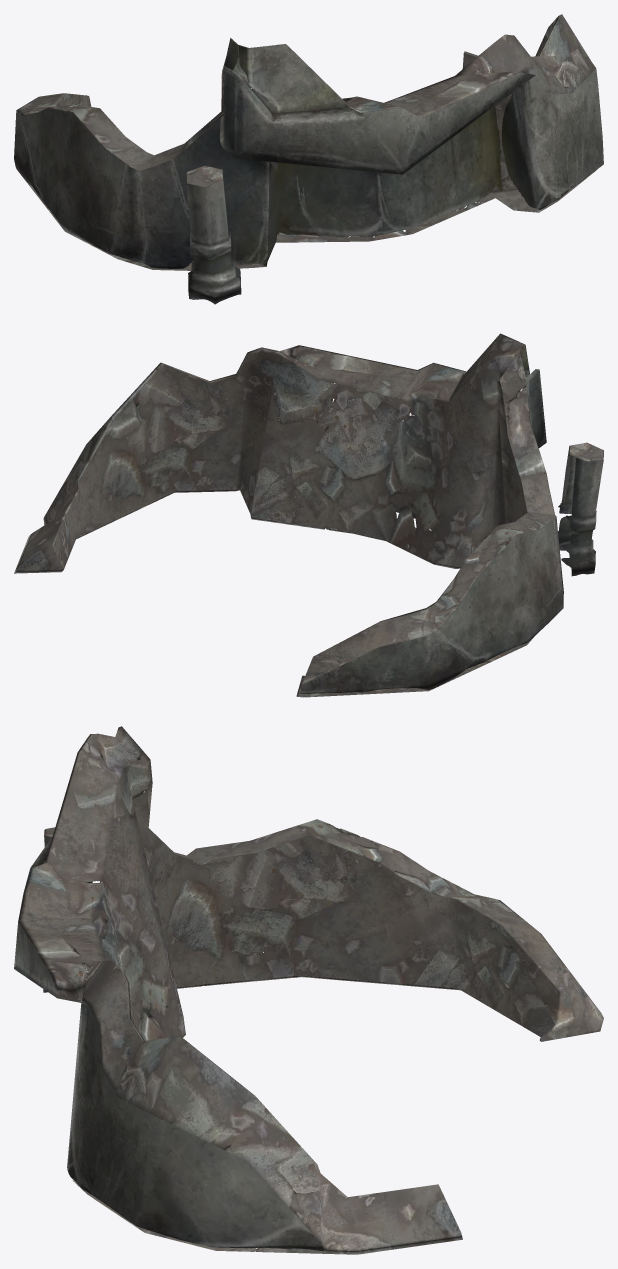
3 views of the same model, one above another, from view 1: azimuth 30°, elevation 25°; view 2: azimuth 150°, elevation 25°; view 3: azimuth 270°, elevation 25° (orthographic). The views are drawn at different scales.
Parts seen in each view (by area): view 1: SM_SaradominTemple_Statue_01v5_LOD0; view 2: SM_SaradominTemple_Statue_01v5_LOD0; view 3: SM_SaradominTemple_Statue_01v5_LOD0.
Part boxes in pixels (left/top/right/bottom): SM_SaradominTemple_Statue_01v5_LOD0: left=14, top=14, right=603, bottom=304; SM_SaradominTemple_Statue_01v5_LOD0: left=14, top=333, right=603, bottom=697; SM_SaradominTemple_Statue_01v5_LOD0: left=14, top=726, right=603, bottom=1254.
Bounding box in the file's own units: 4.05 × 1.78 × 3.31.
Materials: 3 (3 with a texture image).
